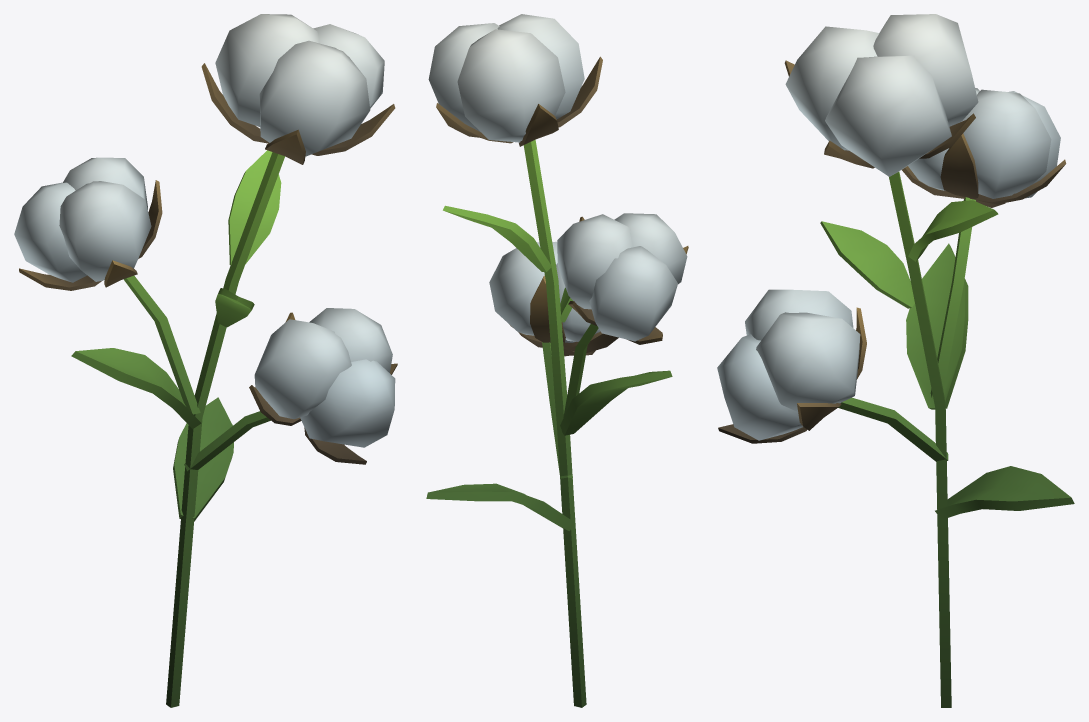
Rendered from CottonPlant.fbx.
The picture shows the model from 3 angles, left to right: view 1: azimuth 30°, elevation 25°; view 2: azimuth 150°, elevation 25°; view 3: azimuth 270°, elevation 25°; orthographic projection. The views are drawn at different scales.
Visible parts, largest first — view 1: pCube13; view 2: pCube13; view 3: pCube13.
Part boxes in pixels (bbox=[...]): pCube13: bbox=[14, 14, 397, 707]; pCube13: bbox=[426, 14, 688, 707]; pCube13: bbox=[717, 14, 1074, 707].
Bounding box in the file's own units: 35.72 × 76.73 × 33.79.
Materials: 1 (1 with a texture image).
